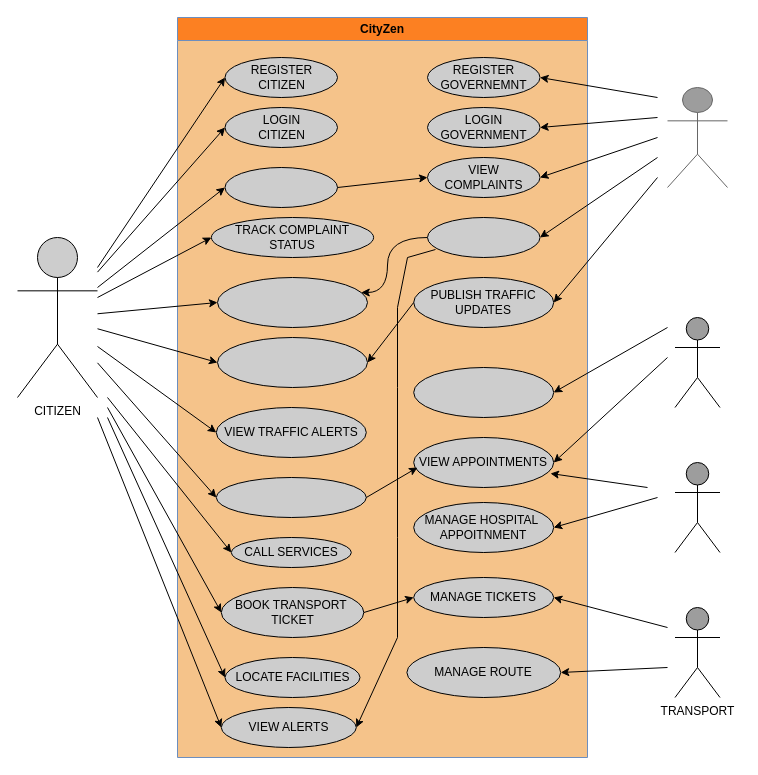
This 758x775 diagram has some shape labels left out. Each missing label, with the centre of its shape:
COURT: the point at 697,362
GOVERNMENT: the point at 697,137
HOSPITAL: the point at 697,507
MANAGE COURT APPOINTMENTS: the point at 483,392
PUBLISH ALERTS: the point at 483,237
REGISTER APPOINTMENT: the point at 290,497
SUBMIT COMPLAINTS: the point at 281,187
VIEW TRAFFIC STATUS: the point at 292,362
VIEW WEATHER ALERTS: the point at 292,302
